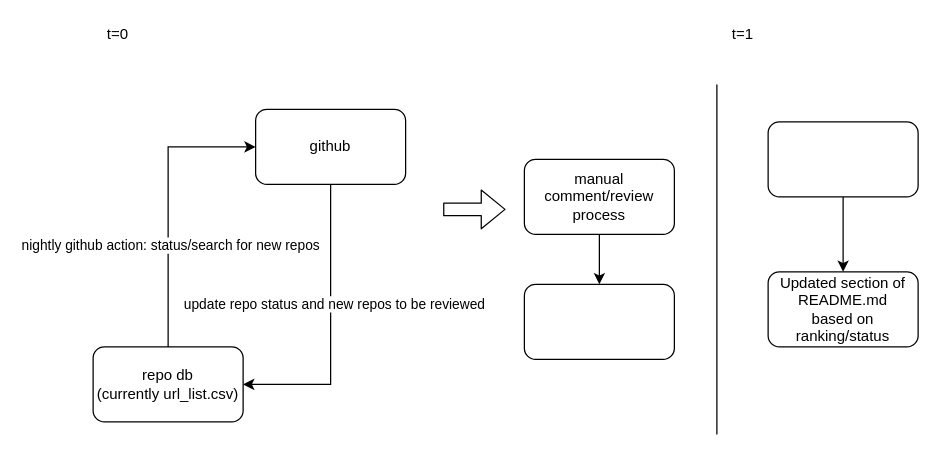
Image size: 940x458. Some labels were removed from this diagram. Each missing label, with the centre of its shape:
"assign manual ranking" belongs at pixel 598 321.
"compute final ranking score" belongs at pixel 842 159.
